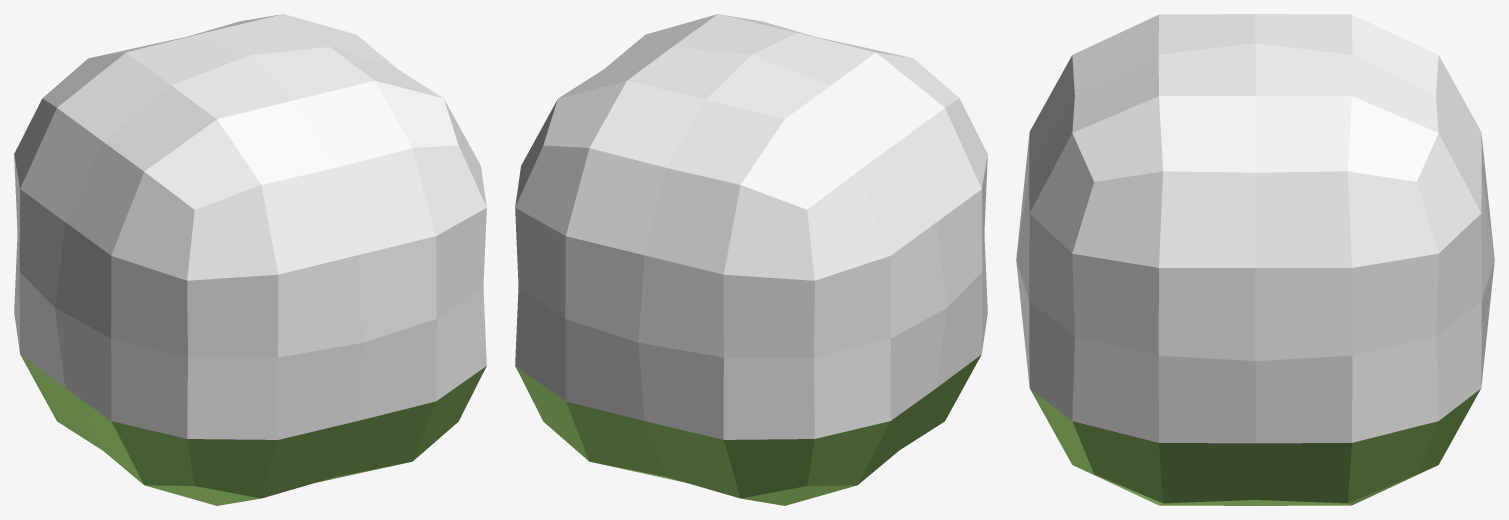
The model's file is Thuja_BushTree_s_Snow_06_LOD.fbx.
3 renders of one model, left to right at view 1: azimuth 30°, elevation 25°; view 2: azimuth 150°, elevation 25°; view 3: azimuth 270°, elevation 25°, orthographic. The views are drawn at different scales.
Visible parts, largest first — view 1: Thuja_BushTree_s_Snow_06_LOD0; view 2: Thuja_BushTree_s_Snow_06_LOD0; view 3: Thuja_BushTree_s_Snow_06_LOD0.
Part boxes in pixels (box(x1,y1,x2,y2)): Thuja_BushTree_s_Snow_06_LOD0: box(14, 14, 486, 505); Thuja_BushTree_s_Snow_06_LOD0: box(515, 14, 987, 505); Thuja_BushTree_s_Snow_06_LOD0: box(1016, 14, 1494, 505).
Size of what is drawn, in the model's own units: 176 by 176 by 176.
